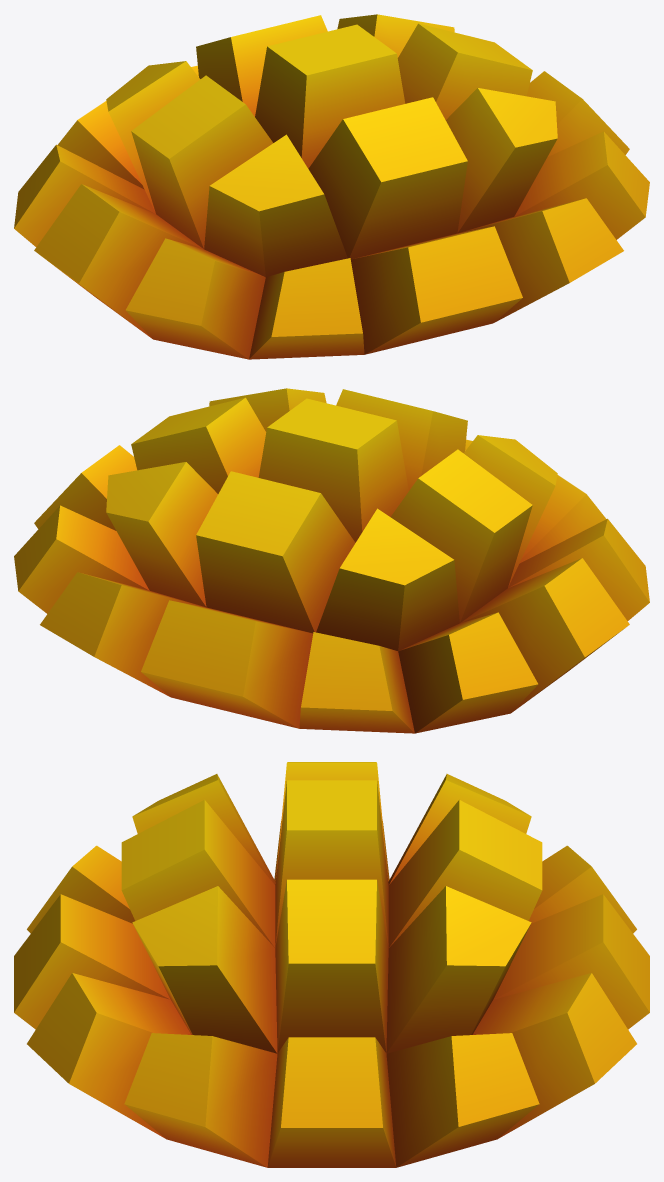
File: Mango_Slice_01.glb
3 renders of one model, top to bottom at view 1: azimuth 30°, elevation 25°; view 2: azimuth 150°, elevation 25°; view 3: azimuth 270°, elevation 25°, orthographic. The views are drawn at different scales.
Parts seen in each view (by area): view 1: Mango_Slice_01; view 2: Mango_Slice_01; view 3: Mango_Slice_01.
Boxes of the visible parts, x1,y1,x2,y2 form: Mango_Slice_01: (14,14,649,359); Mango_Slice_01: (14,388,649,733); Mango_Slice_01: (14,762,649,1167).
Bounding box in the file's own units: 0.3179 × 0.1204 × 0.2799.
1 material, 1 textured.
